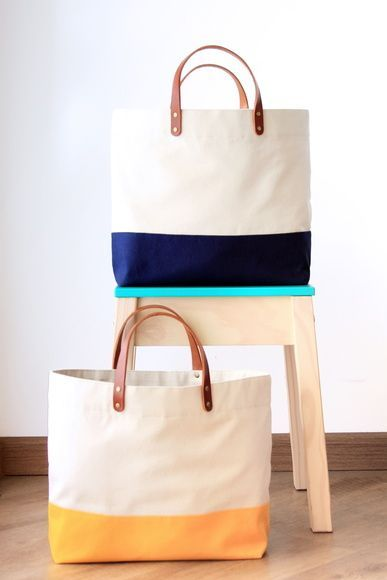nylon: (47, 110, 311, 564)
